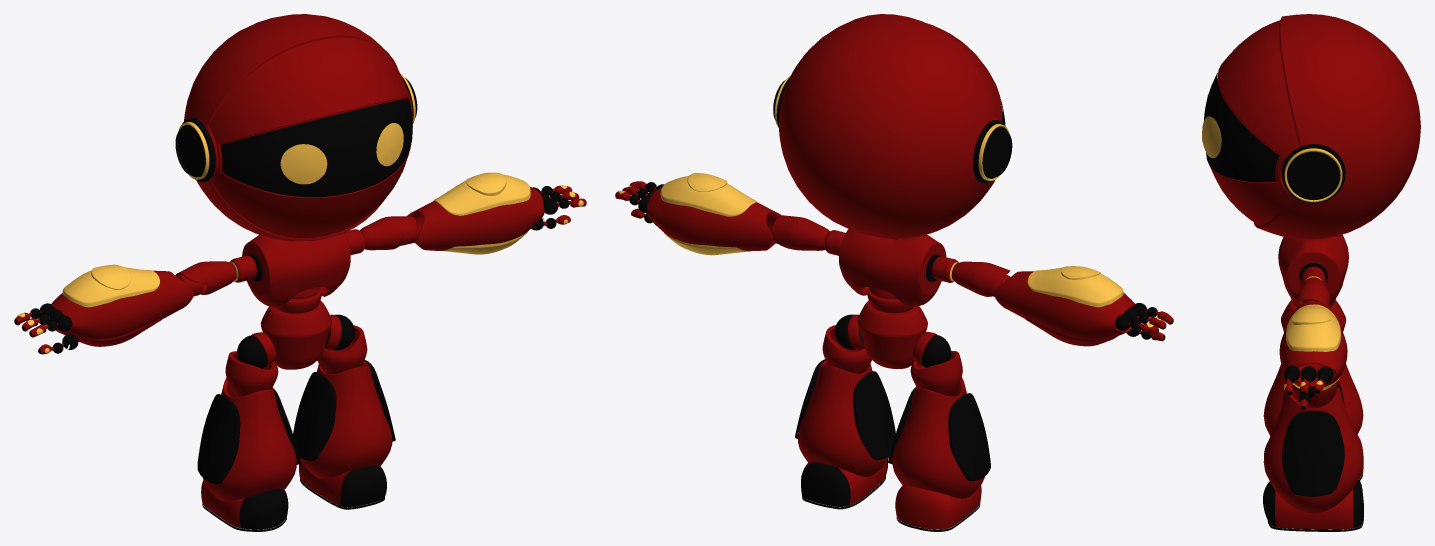
File: robot.glb
The picture shows the model from 3 angles, left to right: view 1: azimuth 30°, elevation 25°; view 2: azimuth 150°, elevation 25°; view 3: azimuth 270°, elevation 25°; orthographic projection.
Parts seen in each view (by area): view 1: Sphere058; view 2: Sphere058; view 3: Sphere058.
Part boxes in pixels (<box>): Sphere058: <box>14,14,586,531</box>; Sphere058: <box>615,14,1173,531</box>; Sphere058: <box>1202,14,1420,531</box>.
Bounding box in the file's own units: 165 × 136 × 57.34.
